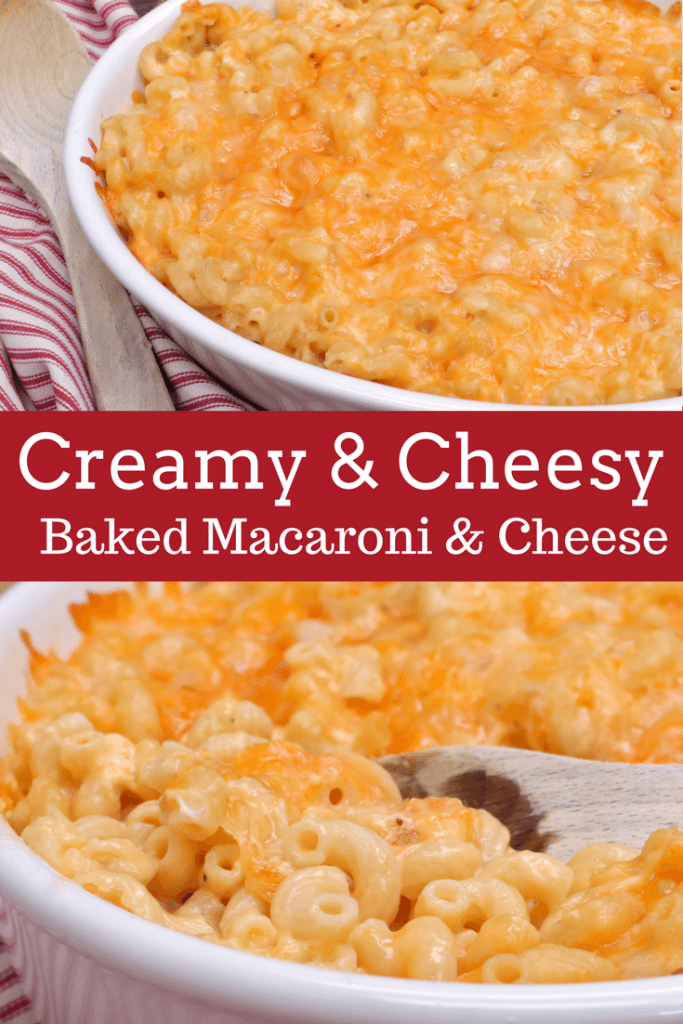macncheese: (72, 665, 610, 1024)
